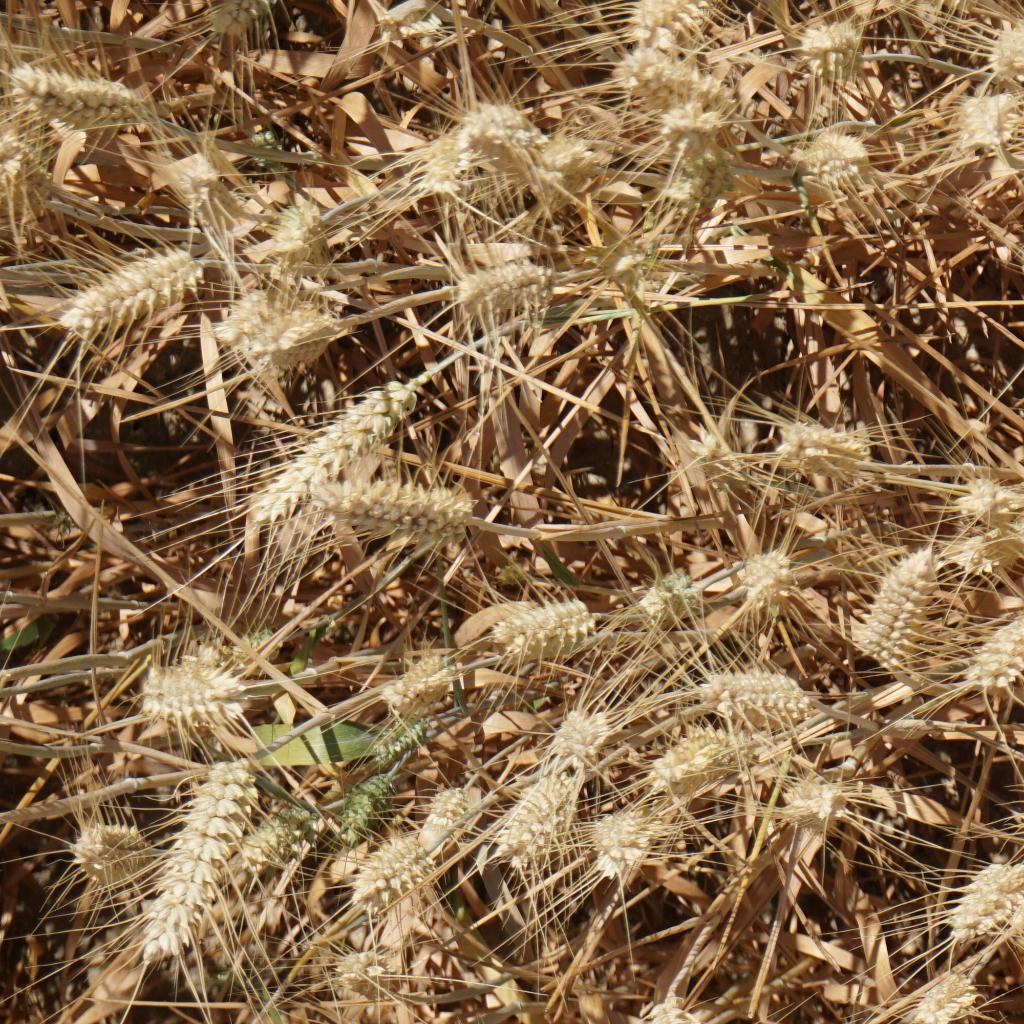0-0: (230, 381, 401, 500), (165, 756, 246, 953), (328, 470, 480, 551), (842, 545, 947, 661), (57, 236, 190, 323), (0, 56, 153, 130), (685, 649, 815, 726), (608, 41, 738, 116), (141, 647, 244, 736), (642, 718, 746, 805), (761, 401, 870, 484), (492, 582, 602, 661), (793, 121, 896, 204), (449, 100, 551, 181), (939, 852, 1024, 949), (210, 285, 344, 346), (496, 770, 570, 868), (774, 763, 864, 838), (628, 572, 714, 649), (379, 661, 476, 728), (444, 242, 541, 307), (647, 90, 732, 163), (535, 697, 612, 777), (783, 9, 868, 78), (403, 768, 476, 848), (898, 958, 985, 1024), (350, 838, 425, 913), (262, 193, 340, 262), (965, 598, 1024, 689), (588, 809, 653, 891), (944, 520, 1024, 583), (69, 811, 147, 874), (953, 456, 1024, 525), (669, 421, 740, 490), (364, 724, 441, 783), (968, 80, 1024, 161), (246, 801, 311, 870), (963, 2, 1024, 70), (628, 0, 720, 41), (342, 774, 397, 837), (342, 951, 405, 998), (0, 152, 51, 210), (200, 0, 295, 31), (730, 547, 795, 592), (559, 139, 618, 188)
